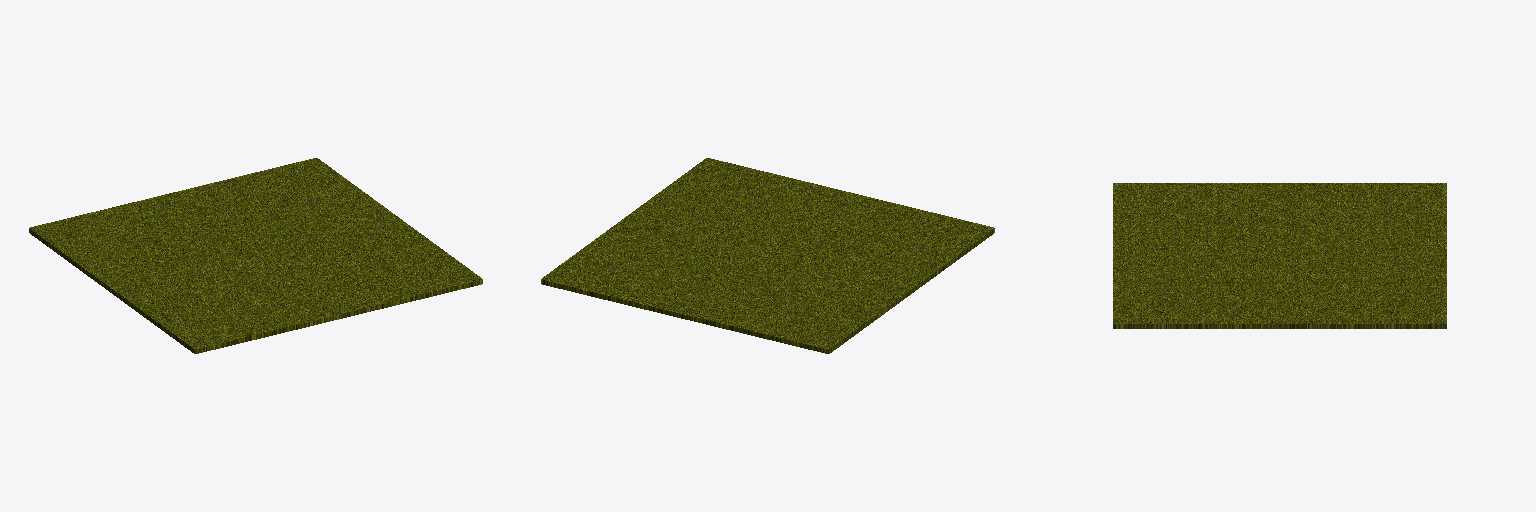
3 renders of one model, left to right at view 1: azimuth 30°, elevation 25°; view 2: azimuth 150°, elevation 25°; view 3: azimuth 270°, elevation 25°, orthographic.
Visible parts, largest first — view 1: Box01; view 2: Box01; view 3: Box01.
Boxes of the visible parts, box(x1,y1,x2,y2) form: Box01: box(29, 158, 482, 353); Box01: box(541, 158, 994, 353); Box01: box(1113, 183, 1446, 328).
Size of the model in its own units: 77.95 by 1.23 by 77.95.
1 materials, 1 textured.